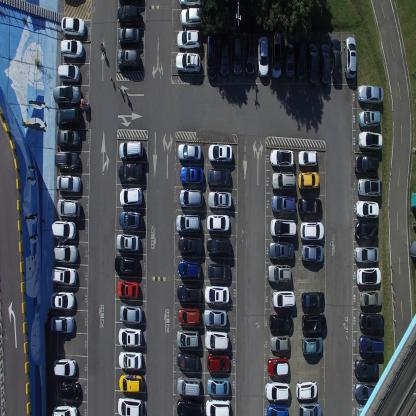car: (174, 51, 201, 74), (343, 34, 357, 78), (356, 82, 384, 104), (52, 85, 82, 105), (118, 138, 144, 161), (353, 380, 380, 402), (117, 161, 144, 183), (270, 31, 282, 79), (178, 233, 203, 256), (60, 15, 86, 37), (51, 264, 78, 285), (330, 36, 342, 83), (271, 193, 295, 216), (206, 234, 231, 256), (55, 150, 80, 172), (204, 328, 229, 350), (116, 4, 141, 26), (358, 334, 384, 355), (51, 219, 77, 240), (244, 31, 256, 76), (206, 34, 218, 79), (179, 186, 203, 208), (177, 141, 201, 163), (302, 312, 326, 334), (306, 42, 318, 86), (207, 142, 232, 163), (354, 358, 379, 379), (114, 254, 140, 274), (175, 213, 201, 233), (270, 218, 296, 238), (268, 241, 294, 261), (265, 381, 291, 401), (358, 312, 384, 332), (50, 290, 76, 310), (118, 373, 144, 393), (55, 106, 81, 126), (218, 34, 230, 77), (116, 278, 139, 300), (118, 49, 141, 71), (60, 38, 83, 60), (270, 170, 294, 191), (300, 220, 324, 241), (300, 242, 324, 263), (355, 199, 379, 220), (176, 350, 200, 371), (177, 29, 201, 50), (180, 7, 204, 28), (207, 189, 232, 209), (206, 166, 231, 186), (53, 243, 78, 263), (118, 350, 143, 370), (117, 395, 142, 415), (52, 357, 77, 377), (269, 312, 294, 332), (115, 232, 140, 252), (358, 130, 383, 150), (283, 32, 294, 77), (204, 284, 230, 303), (318, 43, 330, 84), (176, 398, 203, 416), (178, 257, 200, 279), (267, 356, 289, 378), (207, 212, 230, 233), (207, 352, 230, 373), (119, 209, 142, 230), (180, 165, 204, 185), (298, 196, 322, 216), (267, 262, 291, 282), (271, 288, 295, 308), (301, 290, 325, 310), (354, 155, 378, 175), (354, 221, 378, 241), (359, 288, 383, 308), (206, 376, 230, 396), (177, 376, 201, 396), (57, 198, 81, 218), (118, 326, 142, 346), (119, 186, 143, 206), (269, 148, 294, 167), (357, 177, 382, 196), (55, 128, 80, 147), (205, 398, 231, 416), (297, 170, 319, 191), (295, 38, 306, 80), (358, 108, 381, 128), (118, 304, 142, 323), (177, 306, 201, 325), (176, 329, 200, 348), (57, 175, 81, 194), (177, 284, 202, 302), (354, 245, 379, 263), (50, 315, 75, 333), (258, 33, 268, 77), (58, 63, 80, 83), (208, 261, 231, 280), (118, 29, 142, 47), (356, 268, 380, 286), (203, 308, 227, 326), (302, 335, 323, 355), (269, 333, 291, 352), (296, 380, 318, 399), (59, 380, 81, 399), (232, 36, 242, 76), (297, 149, 317, 168), (52, 403, 78, 415), (297, 403, 322, 415), (356, 402, 378, 415), (267, 403, 289, 415), (178, 0, 203, 7)
